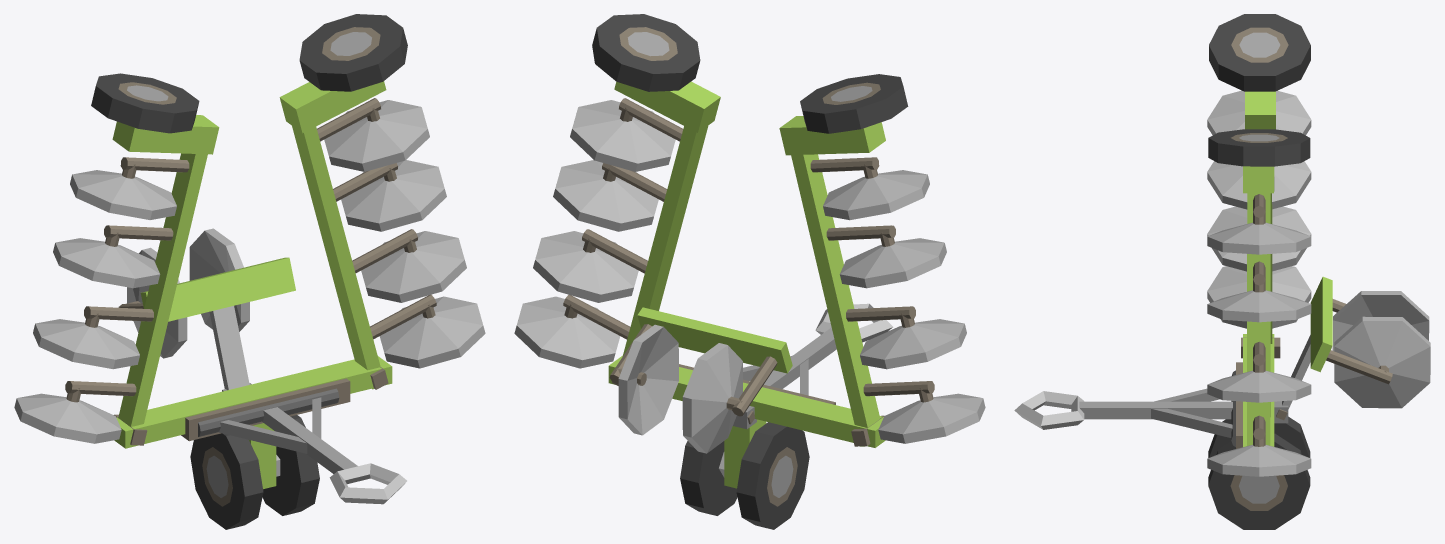
File: trailer2.fbx
The picture shows the model from 3 angles, left to right: view 1: azimuth 30°, elevation 25°; view 2: azimuth 150°, elevation 25°; view 3: azimuth 270°, elevation 25°; orthographic projection. The views are drawn at different scales.
Parts seen in each view (by area): view 1: Cube_7, Cube_9, Cube_12, Cylinder_3, Cylinder_4, Cube_6, Cylinder_1_2, Cylinder_2_5, Cylinder_2_6, Cylinder_2_8, Cylinder_2_7, Cylinder_1 (+6 smaller); view 2: Cube_7, Cube_9, Cylinder_3, Cylinder_1_2, Cube_12, Cube_6, Cylinder_2_9, Cylinder_2_5, Cylinder_2_8, Cylinder_2_6, Cylinder_2_7, Cylinder_2_10 (+6 smaller); view 3: Cylinder_2_9, Cylinder_1, Cylinder_3, Cylinder_4, Cube_9, Cylinder_1_2, Cube_6, Cylinder_2_3, Cylinder_2_6, Cylinder_2_8, Cylinder_2_5, Cylinder_2_10 (+6 smaller).
Boxes of the visible parts, <box> form: Cube_7: <box>65,115,219,445</box>; Cube_9: <box>279,81,436,389</box>; Cube_12: <box>114,356,392,489</box>; Cylinder_3: <box>190,415,319,529</box>; Cylinder_4: <box>198,388,406,504</box>; Cube_6: <box>118,257,295,390</box>; Cylinder_1_2: <box>299,14,407,91</box>; Cylinder_2_5: <box>379,296,485,368</box>; Cylinder_2_6: <box>324,100,429,171</box>; Cylinder_2_8: <box>361,231,466,302</box>; Cylinder_2_7: <box>341,160,446,231</box>; Cylinder_1: <box>91,73,199,133</box>; Cube_7: <box>779,116,934,446</box>; Cube_9: <box>563,81,720,385</box>; Cylinder_3: <box>680,422,809,529</box>; Cylinder_1_2: <box>592,14,700,91</box>; Cube_12: <box>608,355,885,488</box>; Cube_6: <box>609,307,792,424</box>; Cylinder_2_9: <box>618,324,678,435</box>; Cylinder_2_5: <box>514,296,620,368</box>; Cylinder_2_8: <box>533,231,638,302</box>; Cylinder_2_6: <box>570,100,675,171</box>; Cylinder_2_7: <box>553,160,658,231</box>; Cylinder_2_10: <box>682,343,742,453</box>; Cylinder_2_9: <box>1334,316,1430,408</box>; Cylinder_1: <box>1209,14,1310,91</box>; Cylinder_3: <box>1208,416,1310,529</box>; Cylinder_4: <box>1014,370,1235,446</box>; Cube_9: <box>1243,166,1274,446</box>; Cylinder_1_2: <box>1208,129,1310,166</box>; Cube_6: <box>1276,276,1392,420</box>; Cylinder_2_3: <box>1207,161,1311,209</box>; Cylinder_2_6: <box>1207,222,1311,254</box>; Cylinder_2_8: <box>1207,370,1311,402</box>; Cylinder_2_5: <box>1207,444,1311,476</box>; Cylinder_2_10: <box>1332,291,1429,350</box>.
Size of the model in its own units: 360 by 344 by 302.
